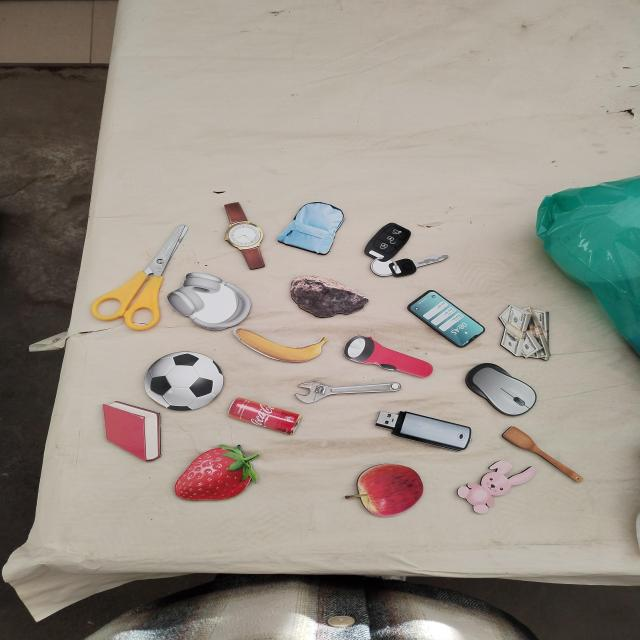Other Objects: (91, 224, 188, 330), (130, 340, 238, 422), (348, 219, 448, 294), (337, 331, 437, 390), (457, 356, 545, 422), (500, 425, 587, 488), (166, 271, 252, 331), (404, 288, 488, 349), (372, 405, 476, 453), (275, 195, 351, 257), (456, 459, 536, 514), (344, 463, 424, 517), (289, 274, 369, 318), (232, 328, 328, 363), (223, 202, 266, 270), (498, 304, 550, 360), (227, 397, 301, 435), (294, 380, 401, 403)
